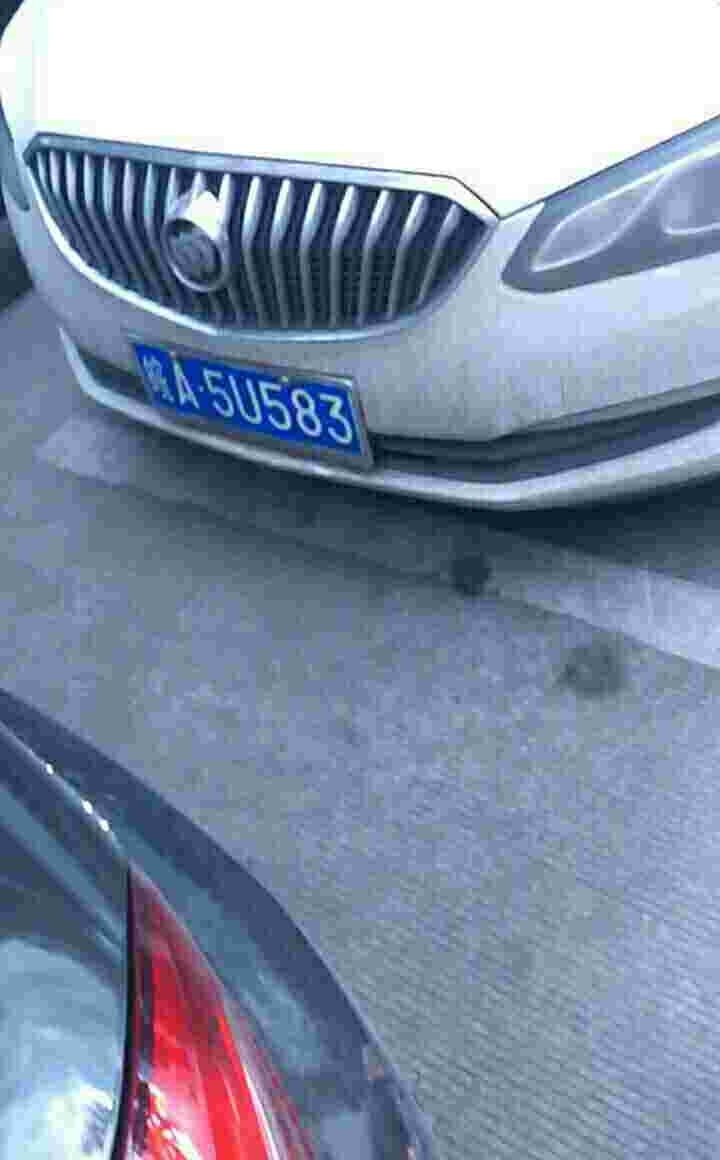car: (124, 334, 378, 464)
